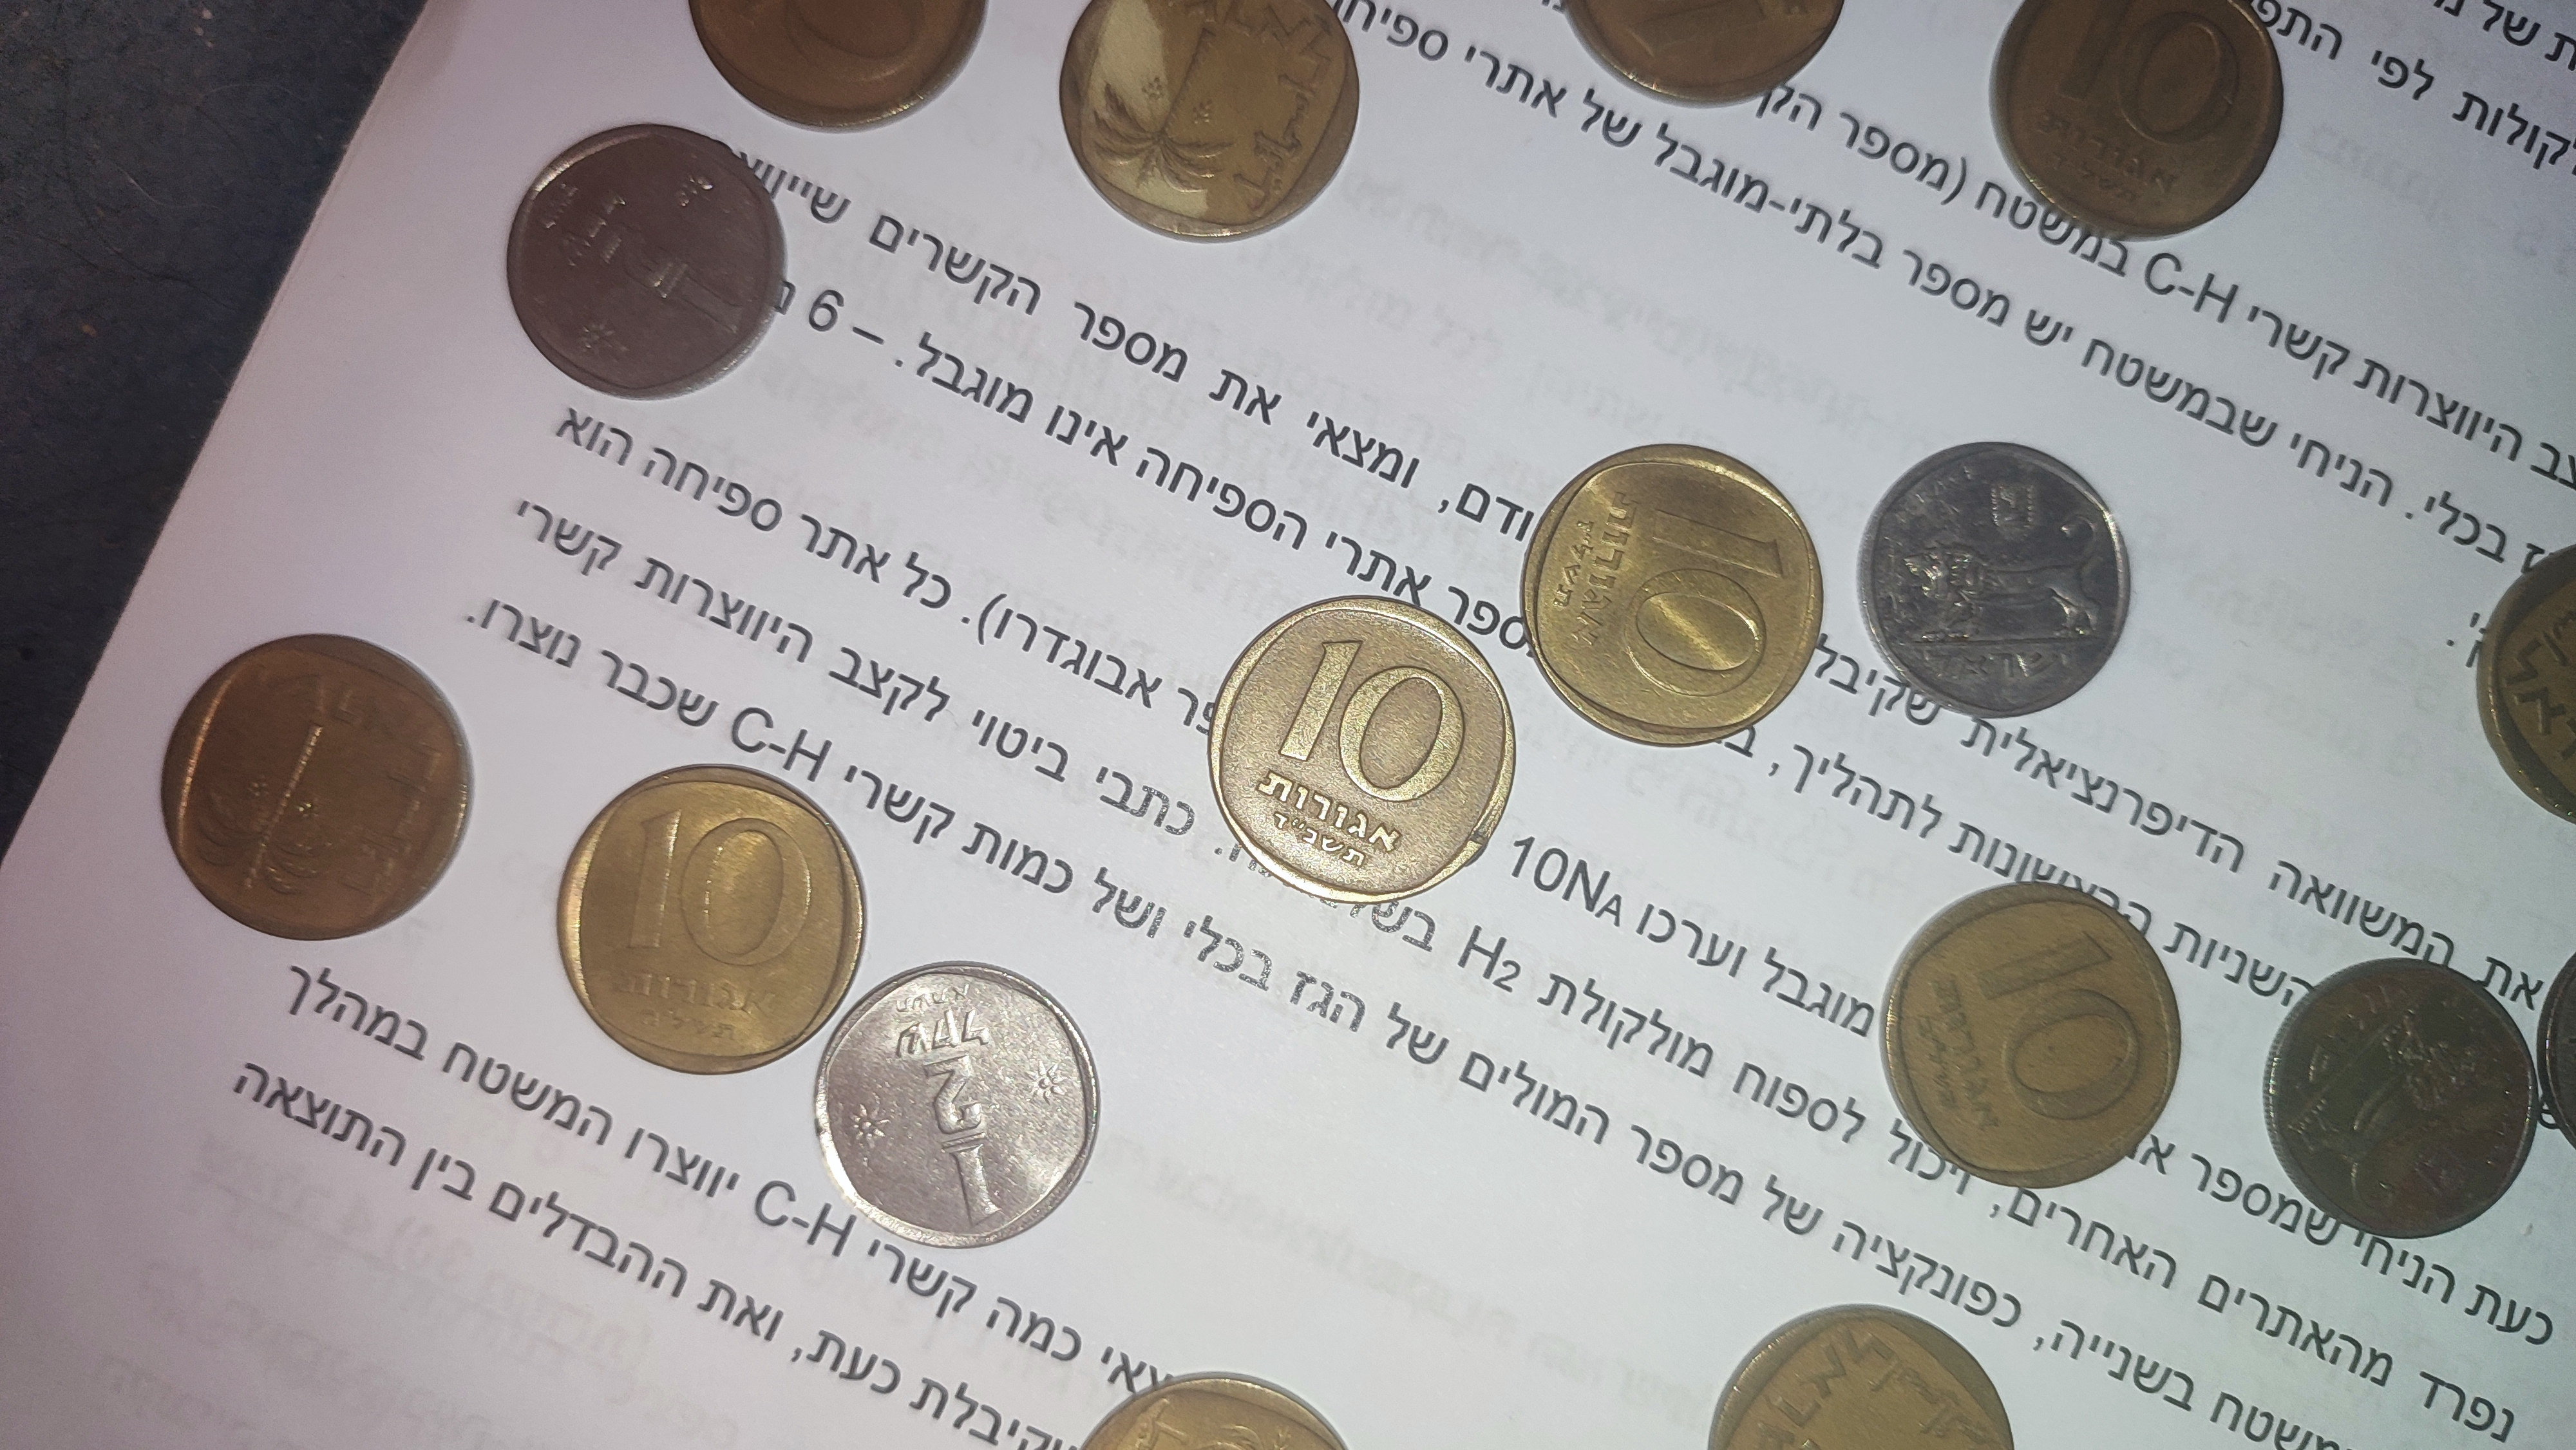1/2 old sheqel: (809, 958, 1104, 1252), (1849, 437, 2135, 725), (501, 120, 791, 405), (2259, 955, 2541, 1243)
10 old agora brown: (154, 628, 478, 946), (554, 759, 872, 1080), (1203, 591, 1520, 909), (1874, 875, 2187, 1192), (1514, 440, 1831, 752), (1054, 0, 1368, 249), (1983, 0, 2286, 244)
